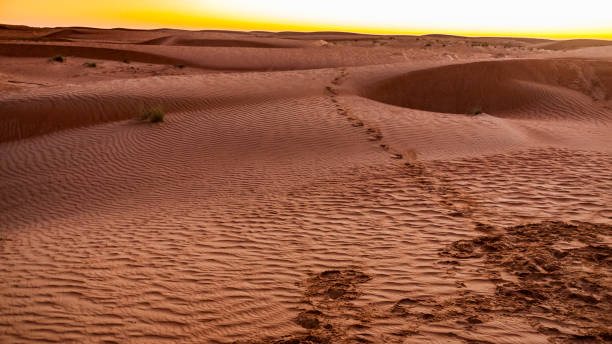human_foot_print: (323, 60, 493, 235)
